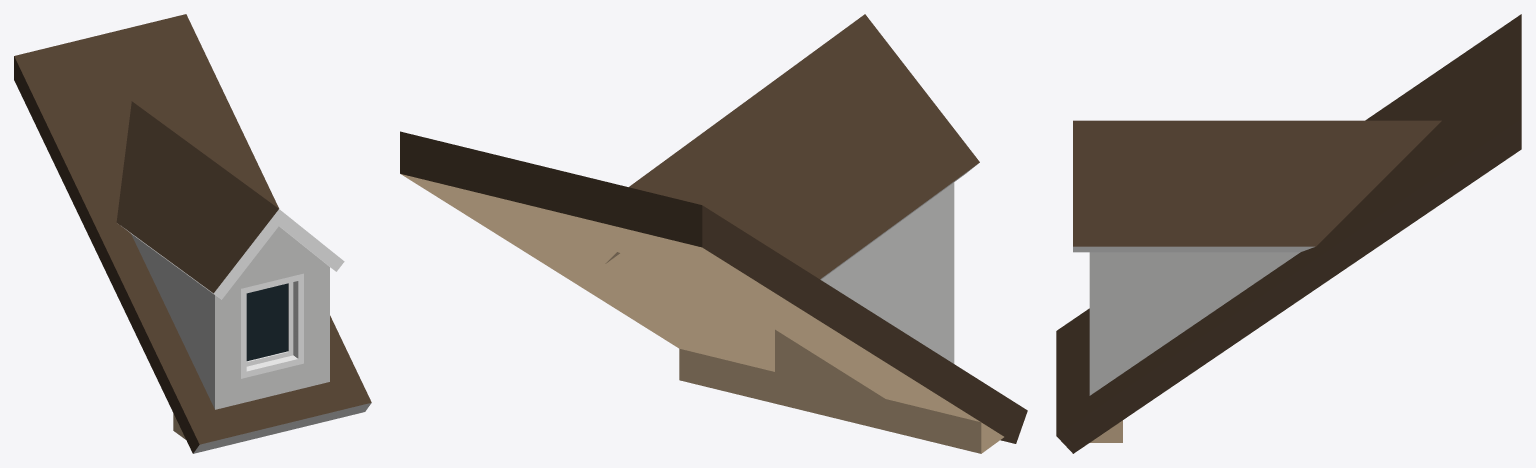
The model's file is house-roof-window.glb.
3 views of the same model, side by side, from view 1: azimuth 30°, elevation 25°; view 2: azimuth 150°, elevation 25°; view 3: azimuth 270°, elevation 25° (orthographic). The views are drawn at different scales.
Visible parts, largest first — view 1: house-roof-window; view 2: house-roof-window; view 3: house-roof-window.
Part boxes in pixels (bbox=[...]): house-roof-window: bbox=[14, 14, 371, 453]; house-roof-window: bbox=[400, 14, 1027, 453]; house-roof-window: bbox=[1056, 14, 1521, 453].
Size of the model in its own units: 3 by 4.45 by 5.6.
Materials: 1 (1 with a texture image).
